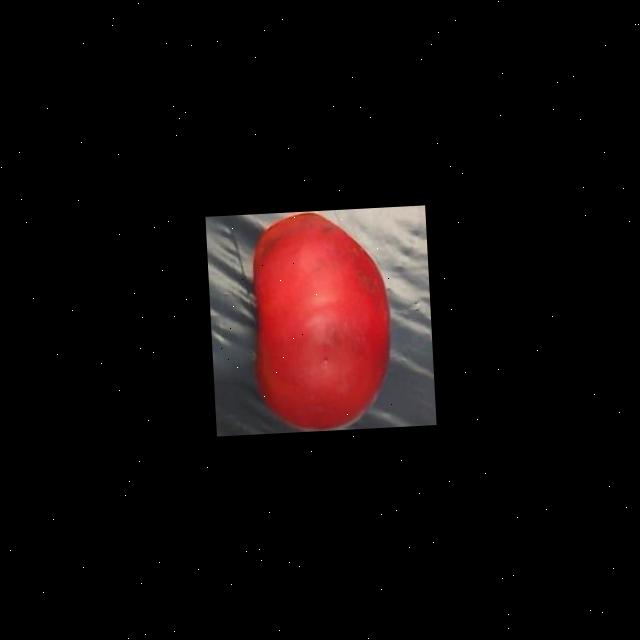tomato: (244, 206, 398, 432)
